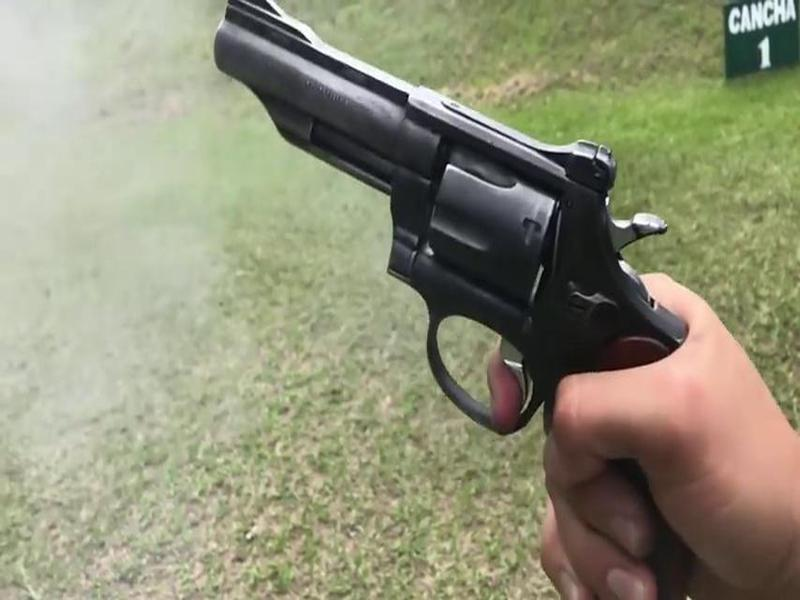Revolver: (211, 3, 730, 450)
